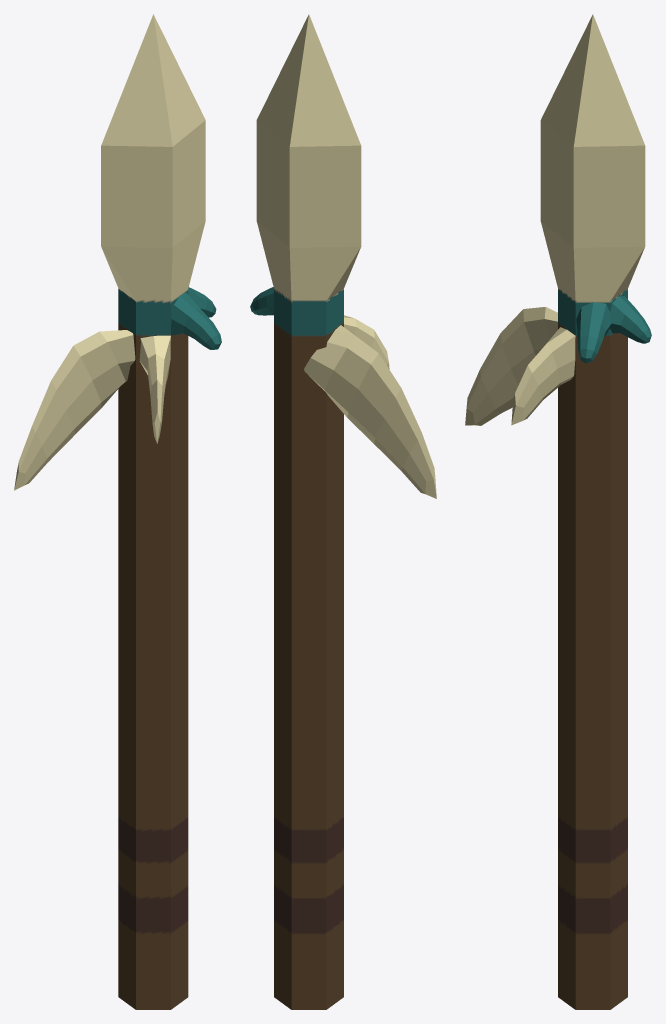
The model's file is Spear.fbx.
3 views of the same model, side by side, from view 1: azimuth 30°, elevation 25°; view 2: azimuth 150°, elevation 25°; view 3: azimuth 330°, elevation 25° (orthographic).
Visible parts, largest first — view 1: Cylinder.001; view 2: Cylinder.001; view 3: Cylinder.001.
Boxes of the visible parts, x1=… form: Cylinder.001: x1=14, y1=14, x2=221, y2=1009; Cylinder.001: x1=250, y1=14, x2=436, y2=1009; Cylinder.001: x1=465, y1=14, x2=651, y2=1009.
Size of the model in its own units: 104 by 504 by 57.53.
